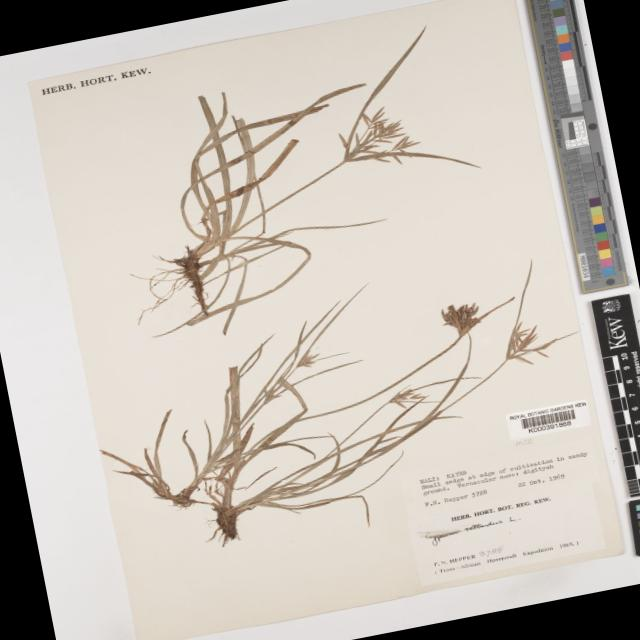cyperus: (324, 92, 427, 182), (427, 294, 495, 348), (494, 314, 560, 368)
